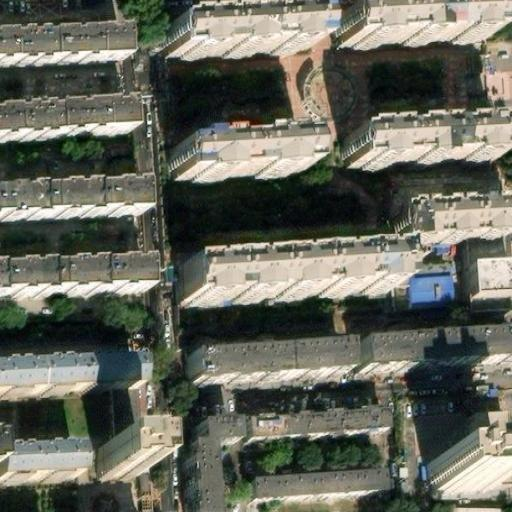building: (175, 255, 389, 310), (340, 128, 494, 174), (156, 16, 305, 62), (165, 139, 295, 190), (183, 340, 341, 381), (353, 330, 510, 371), (0, 182, 141, 221), (0, 262, 138, 300), (0, 361, 136, 399), (391, 212, 502, 258), (0, 97, 122, 138), (183, 417, 235, 512), (241, 406, 376, 441), (244, 467, 377, 502), (0, 29, 118, 65), (469, 421, 506, 491), (0, 444, 71, 477), (425, 461, 489, 495), (464, 285, 509, 321), (91, 442, 135, 471)
